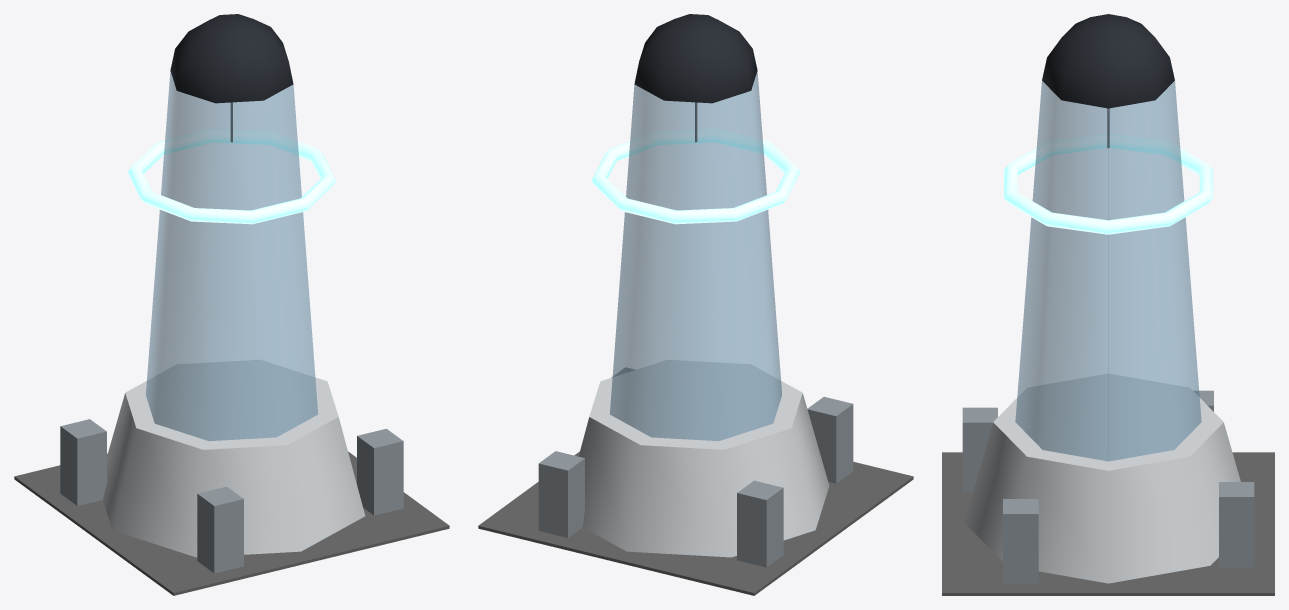
The model's file is bld_special_command_center_a08_lod1.glb.
3 renders of one model, left to right at view 1: azimuth 30°, elevation 25°; view 2: azimuth 150°, elevation 25°; view 3: azimuth 270°, elevation 25°, orthographic. The views are drawn at different scales.
Visible parts, largest first — view 1: body; view 2: body; view 3: body.
Part boxes in pixels (<box>): body: <box>14,14,449,595</box>; body: <box>478,14,913,595</box>; body: <box>942,14,1274,595</box>.
Size of the model in its own units: 15 by 25.15 by 15.
